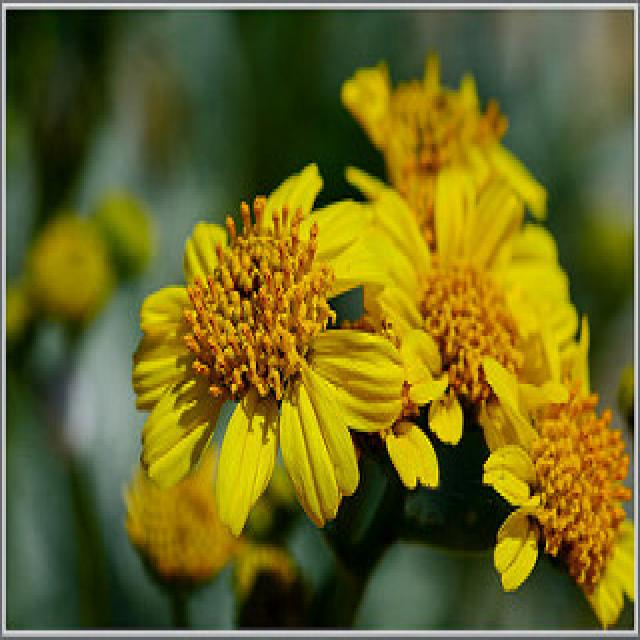sunflower: (138, 170, 409, 523), (343, 162, 593, 480), (488, 362, 633, 626), (340, 61, 552, 210)
